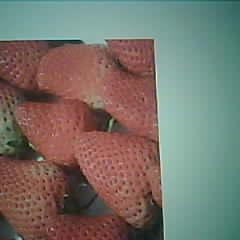straw-ripe: (75, 130, 160, 228), (0, 154, 66, 240), (14, 99, 91, 168)
